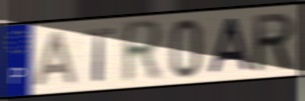0: (169, 17, 205, 81)
A: (207, 16, 254, 76), (32, 29, 78, 89)
R: (121, 17, 166, 87), (252, 10, 297, 75)
T: (83, 25, 117, 84)
